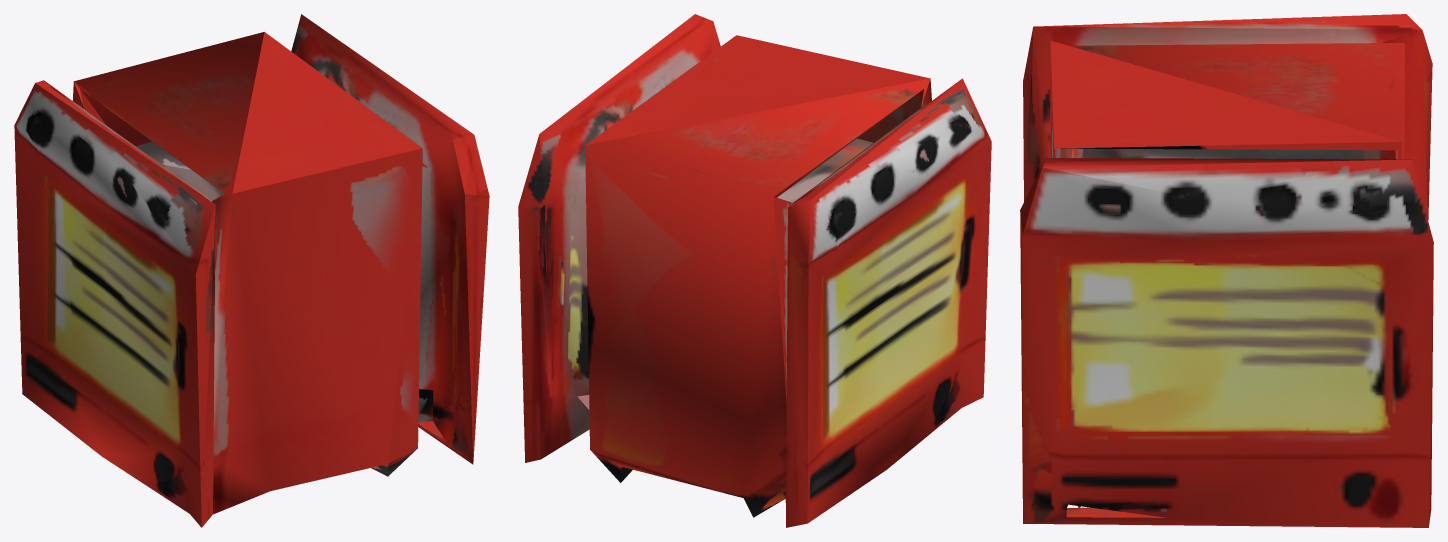
Rendered from supermarket-oven.glb.
The picture shows the model from 3 angles, left to right: view 1: azimuth 30°, elevation 25°; view 2: azimuth 150°, elevation 25°; view 3: azimuth 270°, elevation 25°; orthographic projection. The views are drawn at different scales.
Visible parts, largest first — view 1: geometry_0.001; view 2: geometry_0.001; view 3: geometry_0.001.
Boxes of the visible parts, box(x1,y1,x2,y2) form: geometry_0.001: box(14, 14, 489, 527); geometry_0.001: box(518, 14, 991, 527); geometry_0.001: box(1020, 14, 1433, 527).
Bounding box in the file's own units: 0.9535 × 1.02 × 0.992.
Materials: 1 (1 with a texture image).
